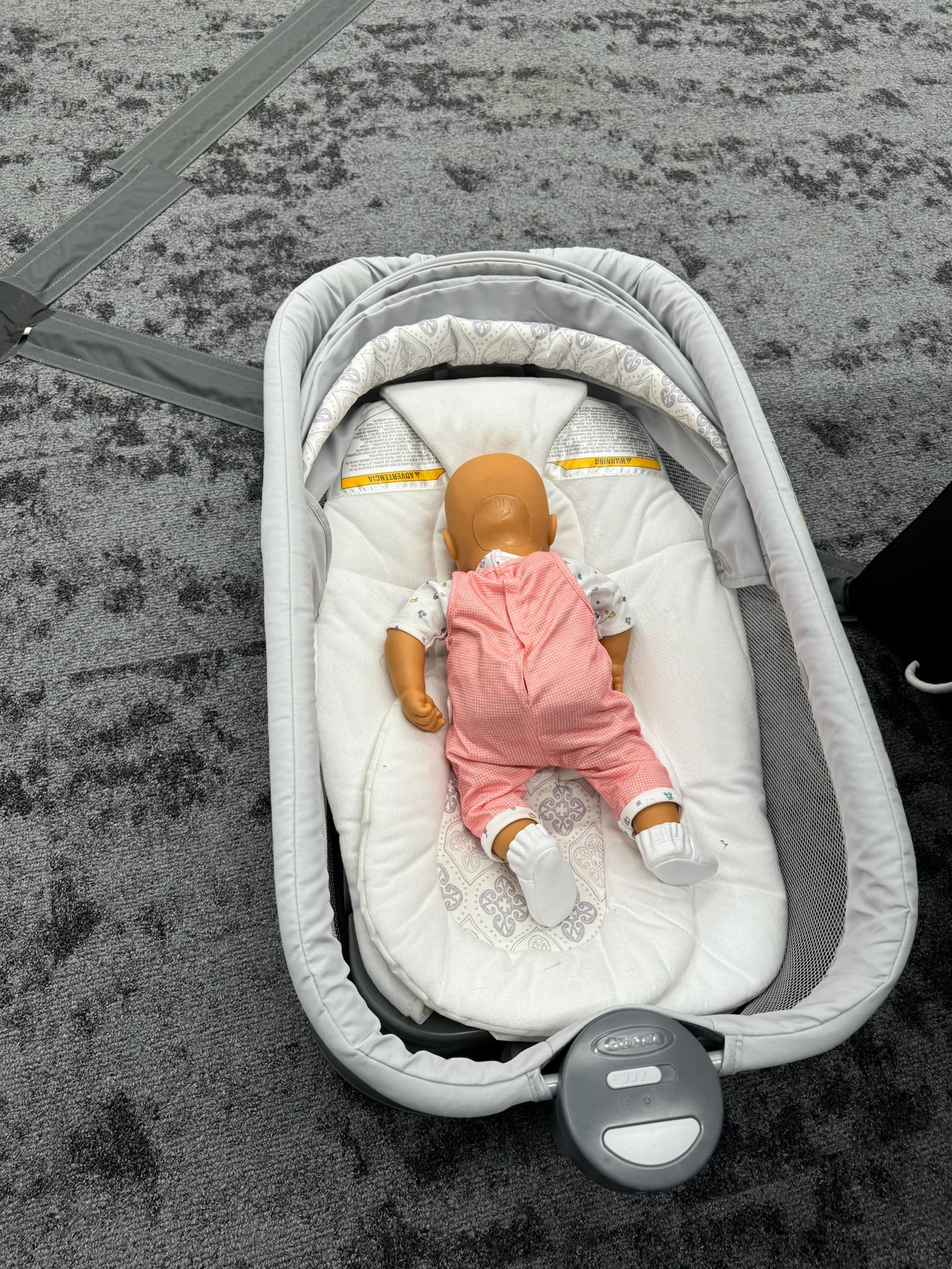baby: (372, 443, 721, 909)
